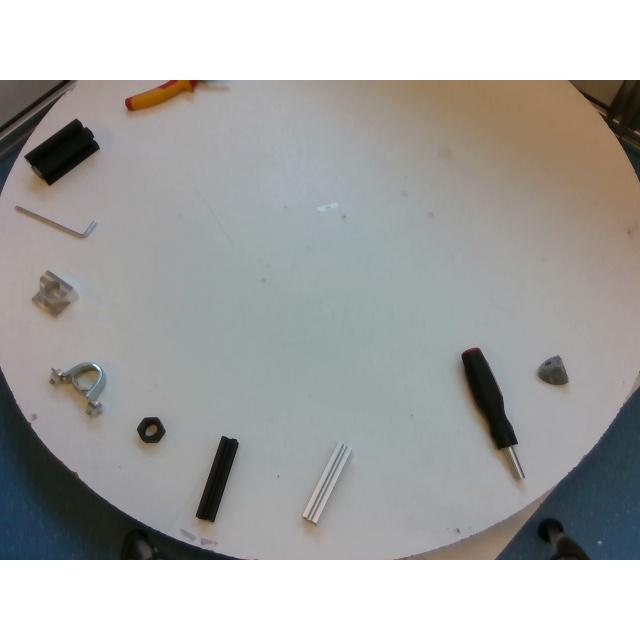F20_20_B: (196, 436, 237, 520)
F20_20_G: (302, 441, 351, 523)
Housing: (50, 360, 106, 414)
M20: (137, 418, 165, 442)
S40_40_B: (26, 120, 98, 184)
